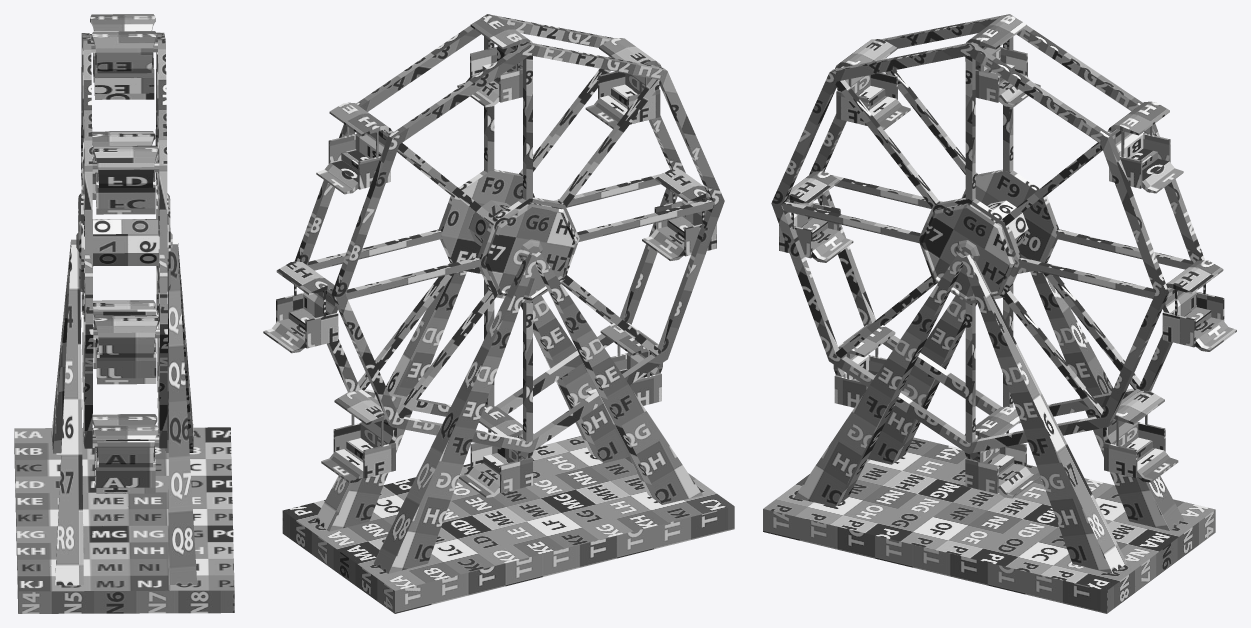
File: FerrisWheel.fbx
The picture shows the model from 3 angles, left to right: view 1: azimuth 30°, elevation 25°; view 2: azimuth 150°, elevation 25°; view 3: azimuth 270°, elevation 25°; orthographic projection. The views are drawn at different scales.
Visible parts, largest first — view 1: FerrisWheel:pCylinder2, FerrisWheel:Seat5, FerrisWheel:Seat3, FerrisWheel:Seat4, FerrisWheel:Seat6, FerrisWheel:Seat2, FerrisWheel:Seat1, FerrisWheel:Seat7, FerrisWheel:Seat; view 2: FerrisWheel:pCylinder2, FerrisWheel:Seat, FerrisWheel:Seat1, FerrisWheel:Seat2, FerrisWheel:Seat7, FerrisWheel:Seat4, FerrisWheel:Seat5, FerrisWheel:Seat3, FerrisWheel:Seat6; view 3: FerrisWheel:pCylinder2, FerrisWheel:Seat1, FerrisWheel:Seat, FerrisWheel:Seat2, FerrisWheel:Seat7, FerrisWheel:Seat4, FerrisWheel:Seat5, FerrisWheel:Seat3, FerrisWheel:Seat6.
Part boxes in pixels (x1,y1,x2,y2): FerrisWheel:pCylinder2: (14, 32, 234, 613); FerrisWheel:Seat5: (93, 315, 159, 384); FerrisWheel:Seat3: (91, 31, 157, 99); FerrisWheel:Seat4: (93, 145, 158, 214); FerrisWheel:Seat6: (93, 425, 158, 493); FerrisWheel:Seat2: (90, 14, 155, 82); FerrisWheel:Seat1: (92, 131, 155, 199); FerrisWheel:Seat7: (92, 414, 157, 482); FerrisWheel:Seat: (93, 300, 155, 368); FerrisWheel:pCylinder2: (282, 14, 734, 613); FerrisWheel:Seat: (321, 391, 396, 482); FerrisWheel:Seat1: (263, 261, 338, 353); FerrisWheel:Seat2: (316, 102, 392, 194); FerrisWheel:Seat7: (459, 406, 533, 497); FerrisWheel:Seat4: (585, 38, 661, 128); FerrisWheel:Seat5: (642, 169, 716, 260); FerrisWheel:Seat3: (457, 15, 532, 107); FerrisWheel:Seat6: (587, 322, 662, 405); FerrisWheel:pCylinder2: (763, 14, 1215, 613); FerrisWheel:Seat1: (1162, 260, 1236, 351); FerrisWheel:Seat: (1103, 390, 1178, 482); FerrisWheel:Seat2: (1107, 101, 1183, 193); FerrisWheel:Seat7: (964, 406, 1039, 498); FerrisWheel:Seat4: (835, 39, 910, 129); FerrisWheel:Seat5: (779, 171, 853, 262); FerrisWheel:Seat3: (965, 15, 1040, 107); FerrisWheel:Seat6: (833, 324, 908, 407).
Bounding box in the file's own units: 12.21 × 17.6 × 14.96.
1 material, 1 textured.
